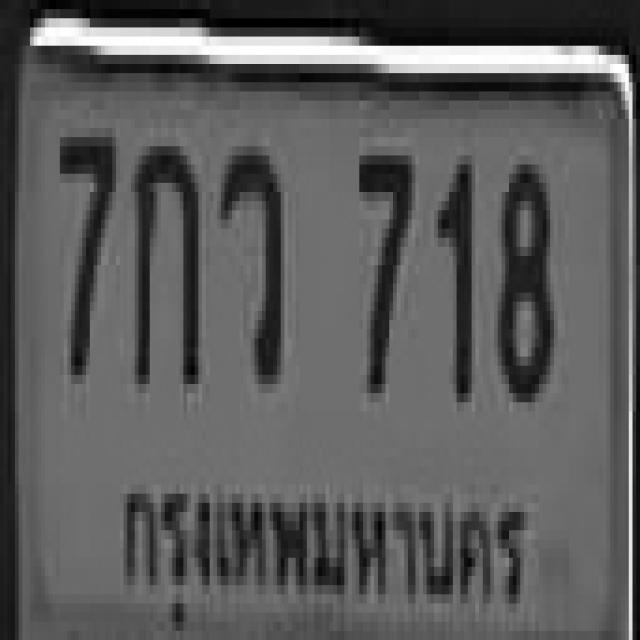1: (434, 146, 468, 393)
10GorGai: (131, 137, 195, 384)
46WorWaen: (217, 137, 281, 375)
7: (56, 128, 112, 375), (356, 146, 408, 384)
8: (494, 156, 550, 393)
Bangkok: (112, 456, 532, 628)
